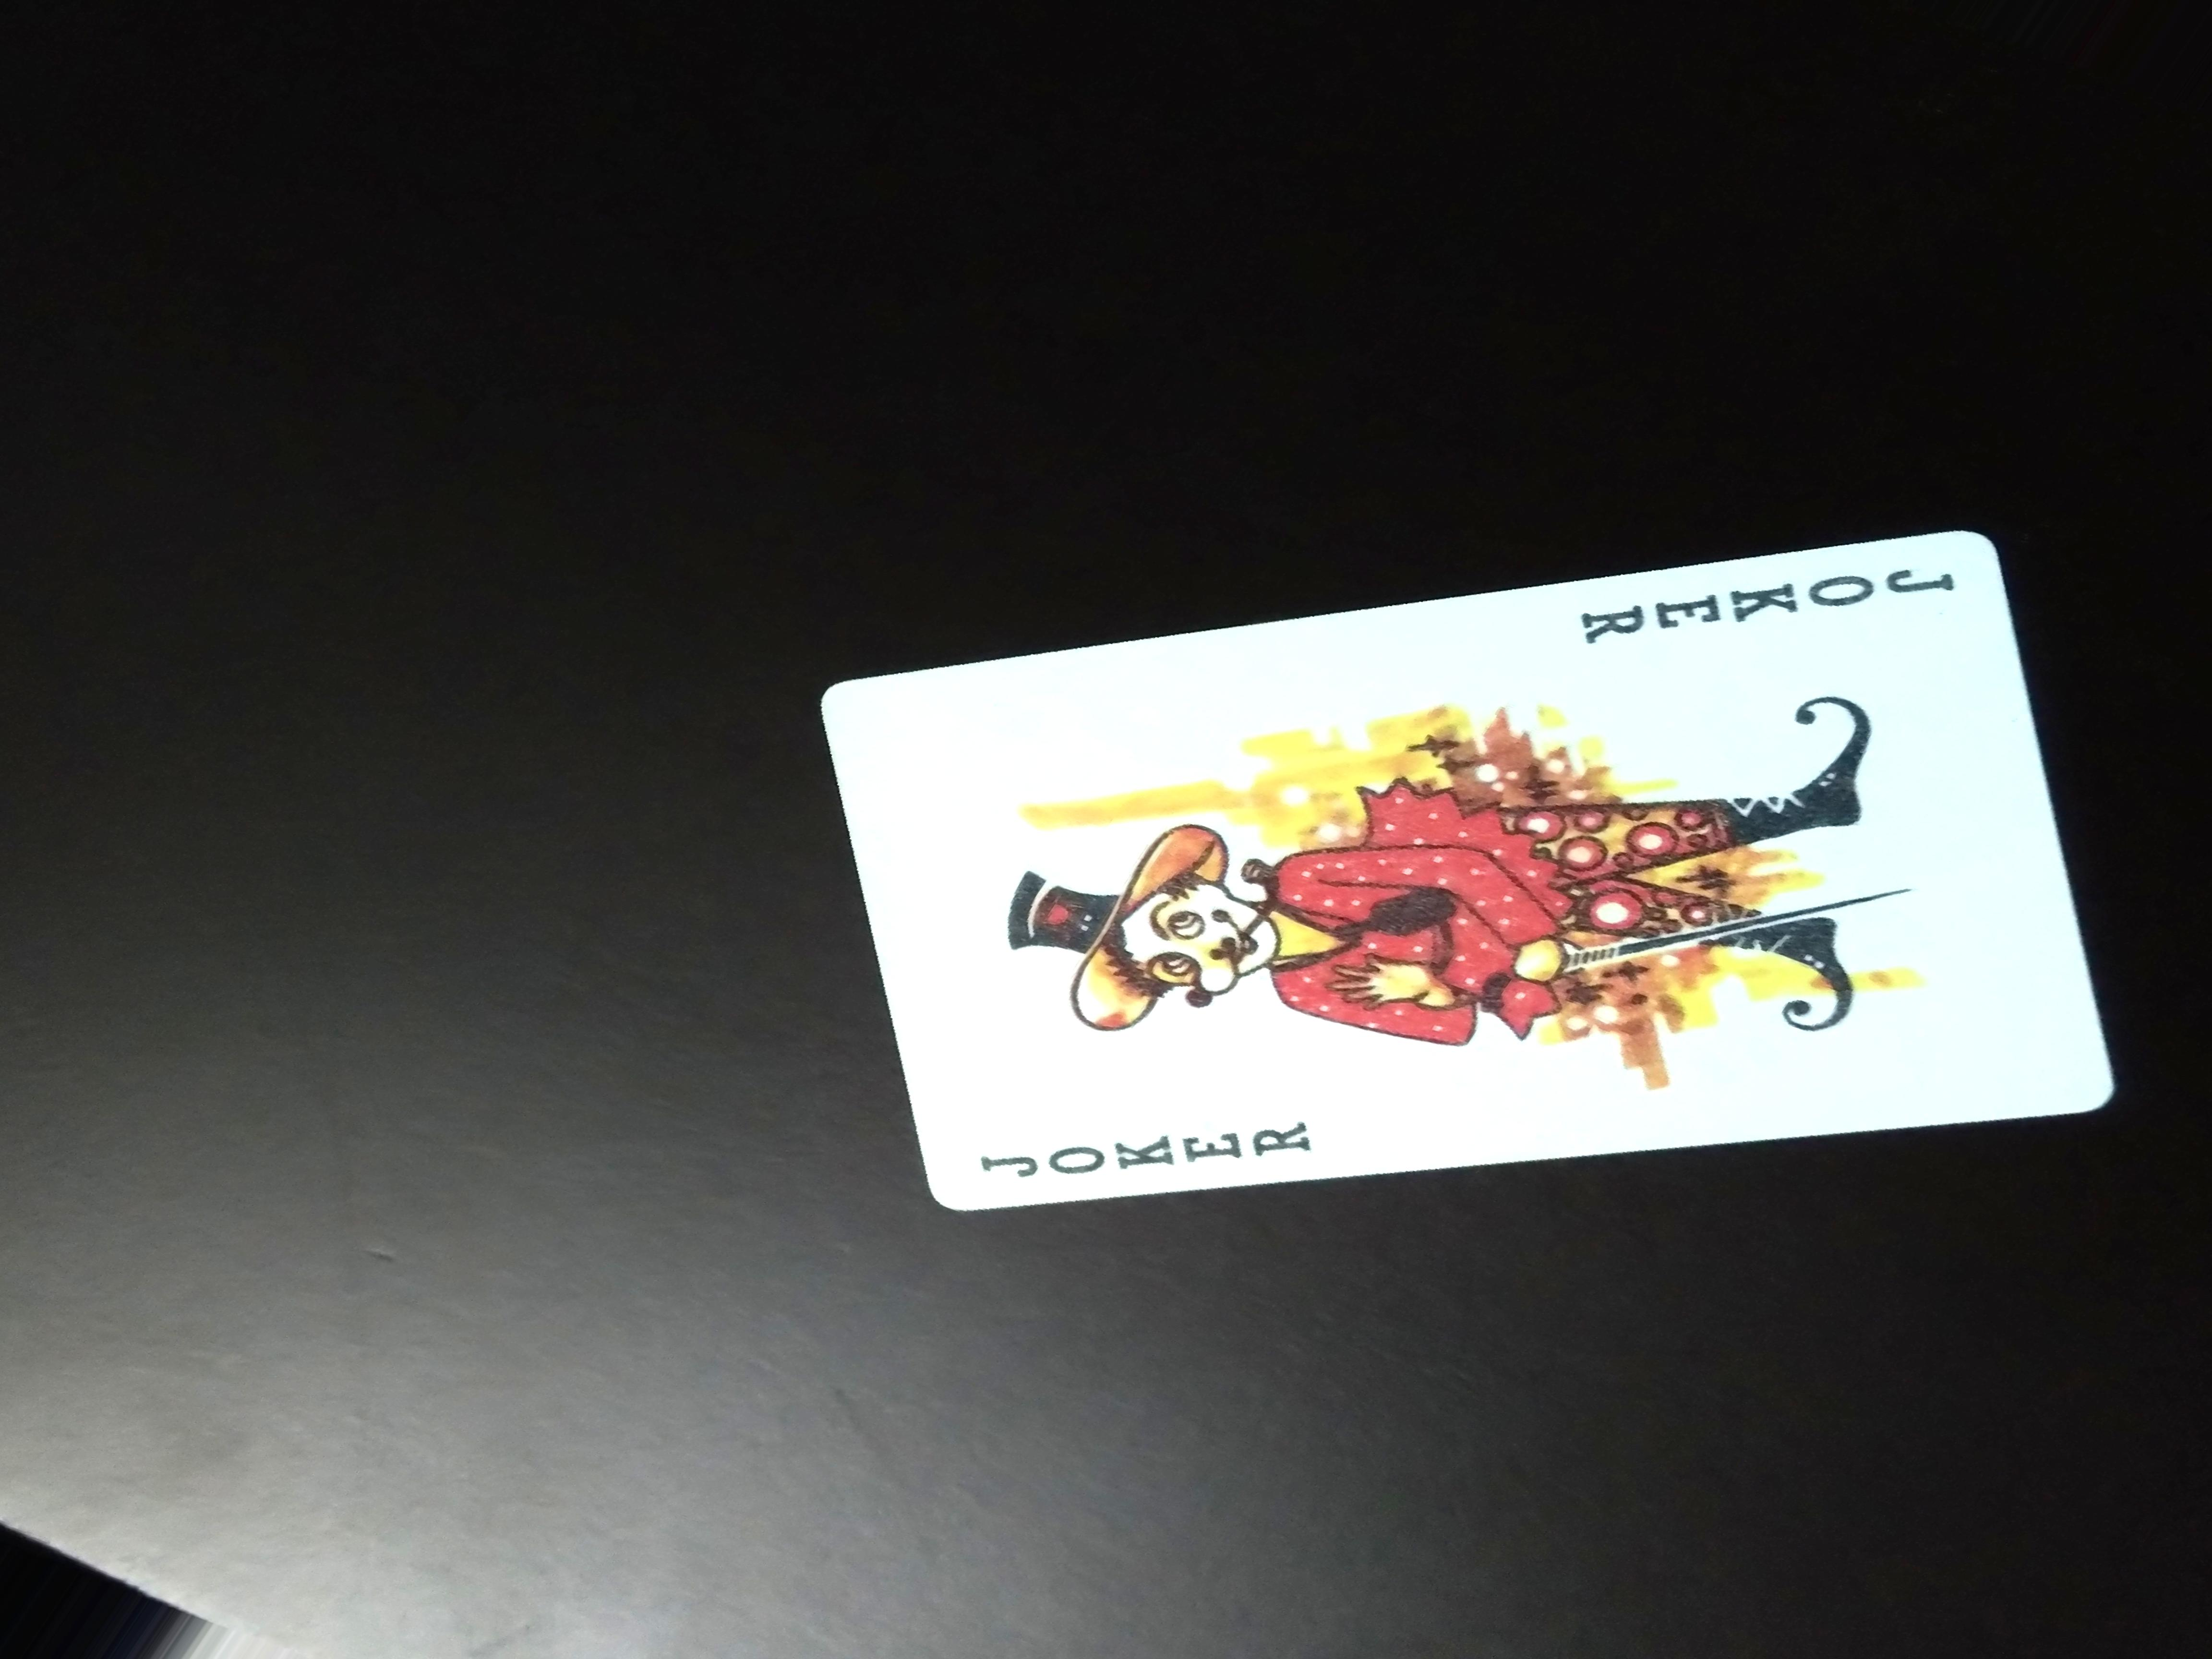JOKER: (965, 1107, 1310, 1195)
